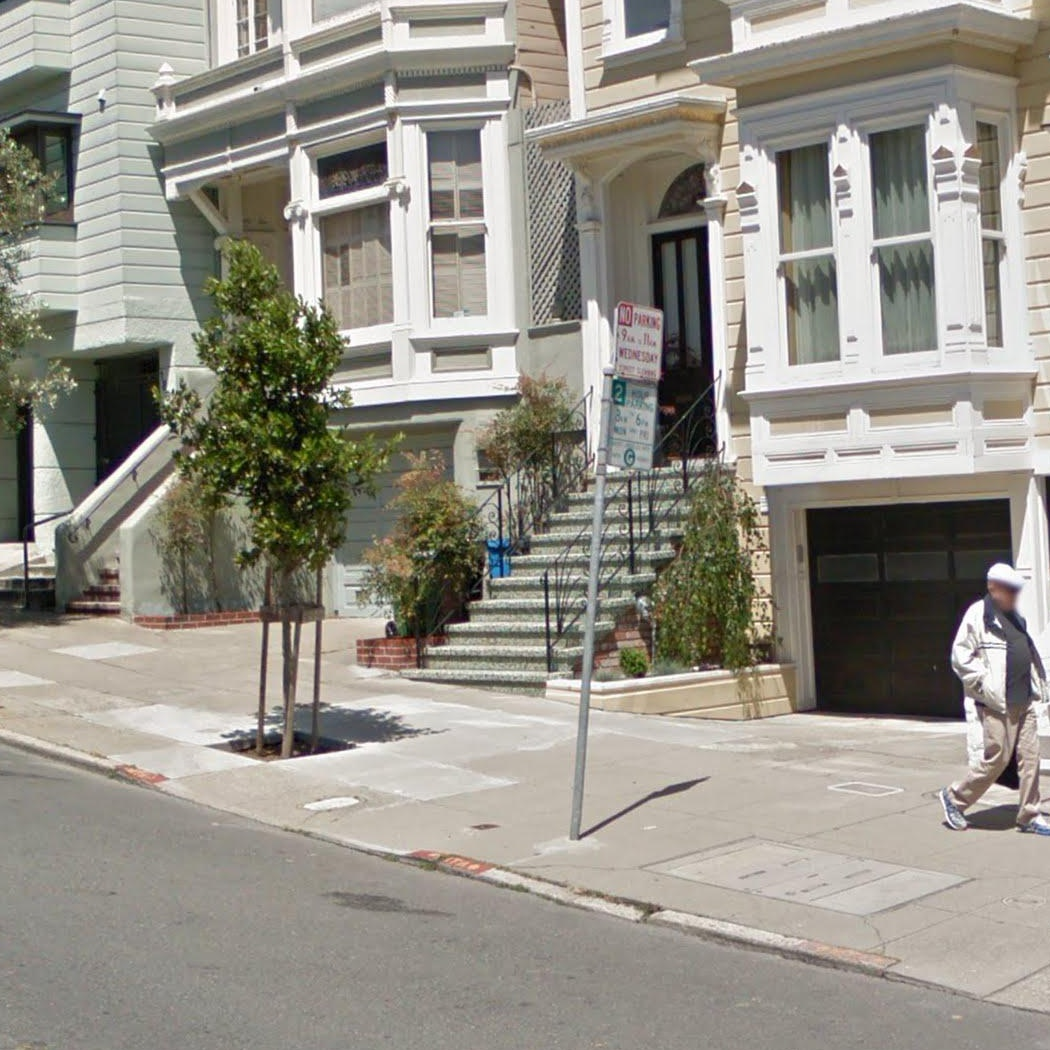2 Hour Parking: (603, 375, 660, 474)
No Parking: (611, 299, 665, 384)
